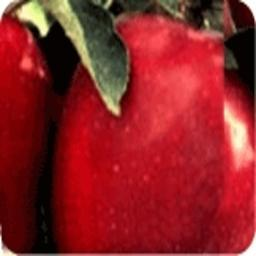apple: (53, 11, 251, 250)
